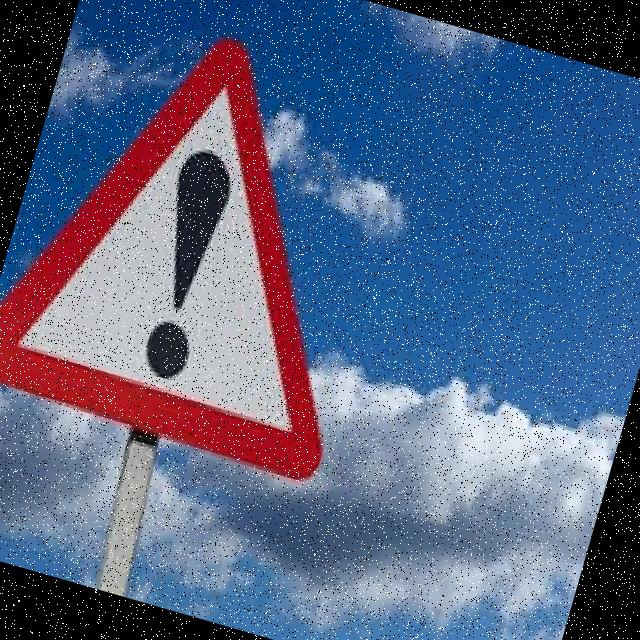warning: (0, 0, 429, 504)
